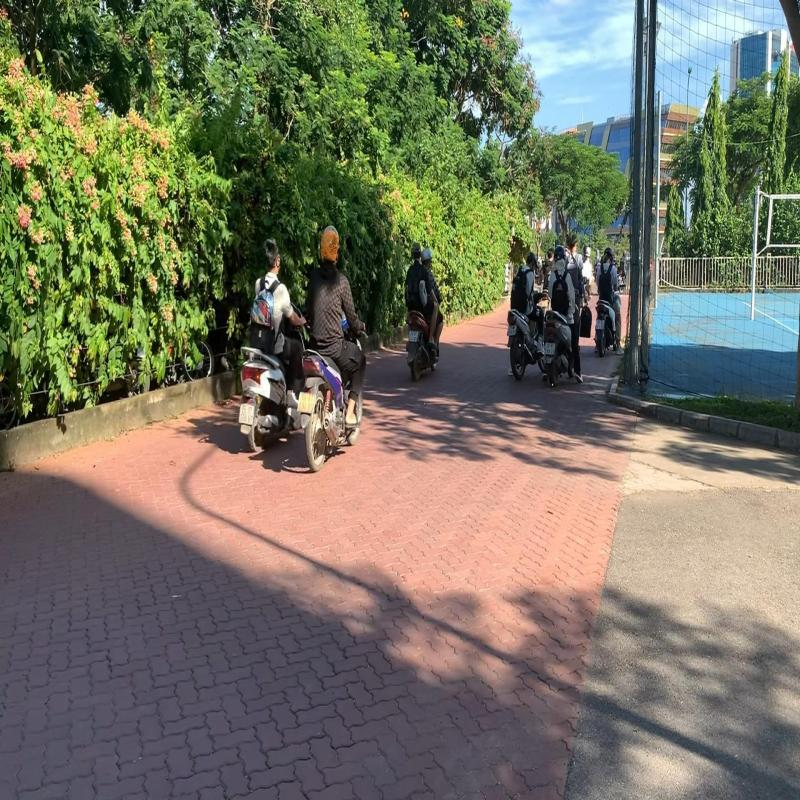nohelmet: (260, 235, 282, 274)
